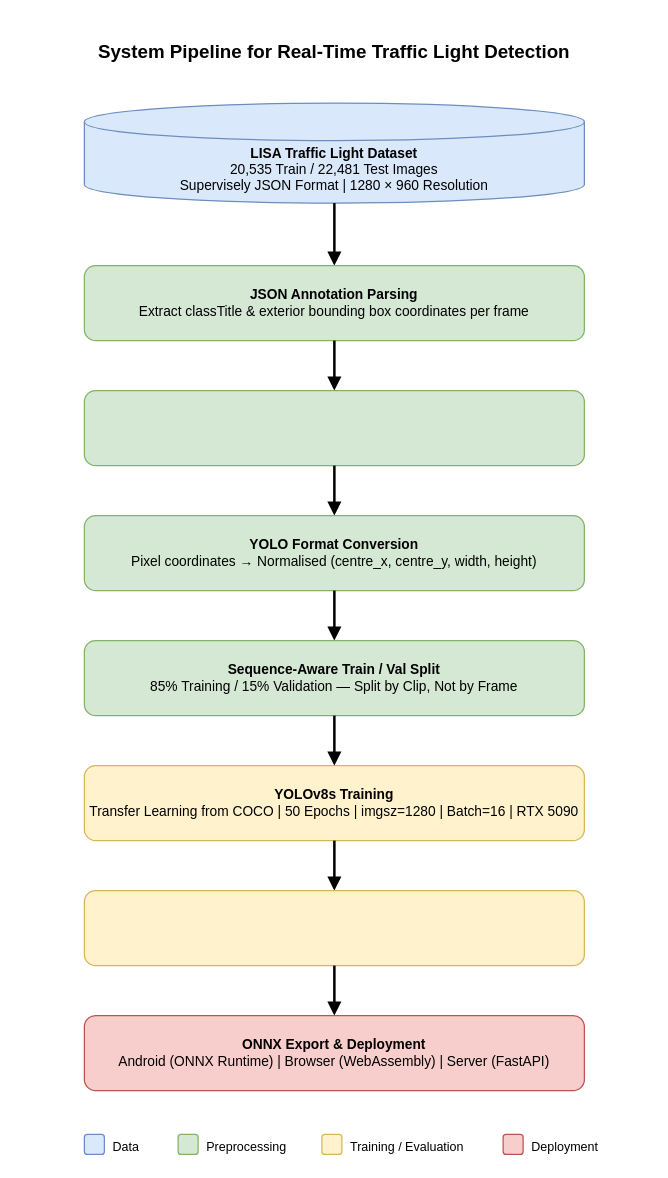
Image size: 668x1178. Some labels were removed from this diagram. The box of each missing label's shape, as (x1, y1, x2, y2) in pixels:
Class Mapping 14 Raw Classes → 3 Semantic Classes (go / stop / warning): (83, 389, 584, 466)
Inference & Evaluation mAP@50 = 0.768 | Precision = 0.874 | Recall = 0.780: (83, 889, 584, 966)
